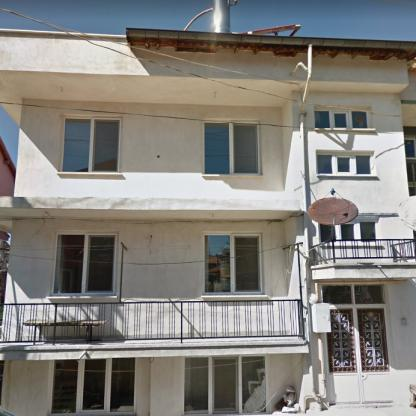door: (327, 306, 393, 403)
window: (49, 358, 138, 414), (183, 356, 266, 413), (50, 233, 118, 296), (203, 233, 263, 295), (60, 116, 121, 172), (202, 120, 259, 175), (320, 282, 386, 304), (314, 106, 371, 128), (320, 221, 378, 242), (315, 154, 372, 174), (406, 135, 414, 158)
